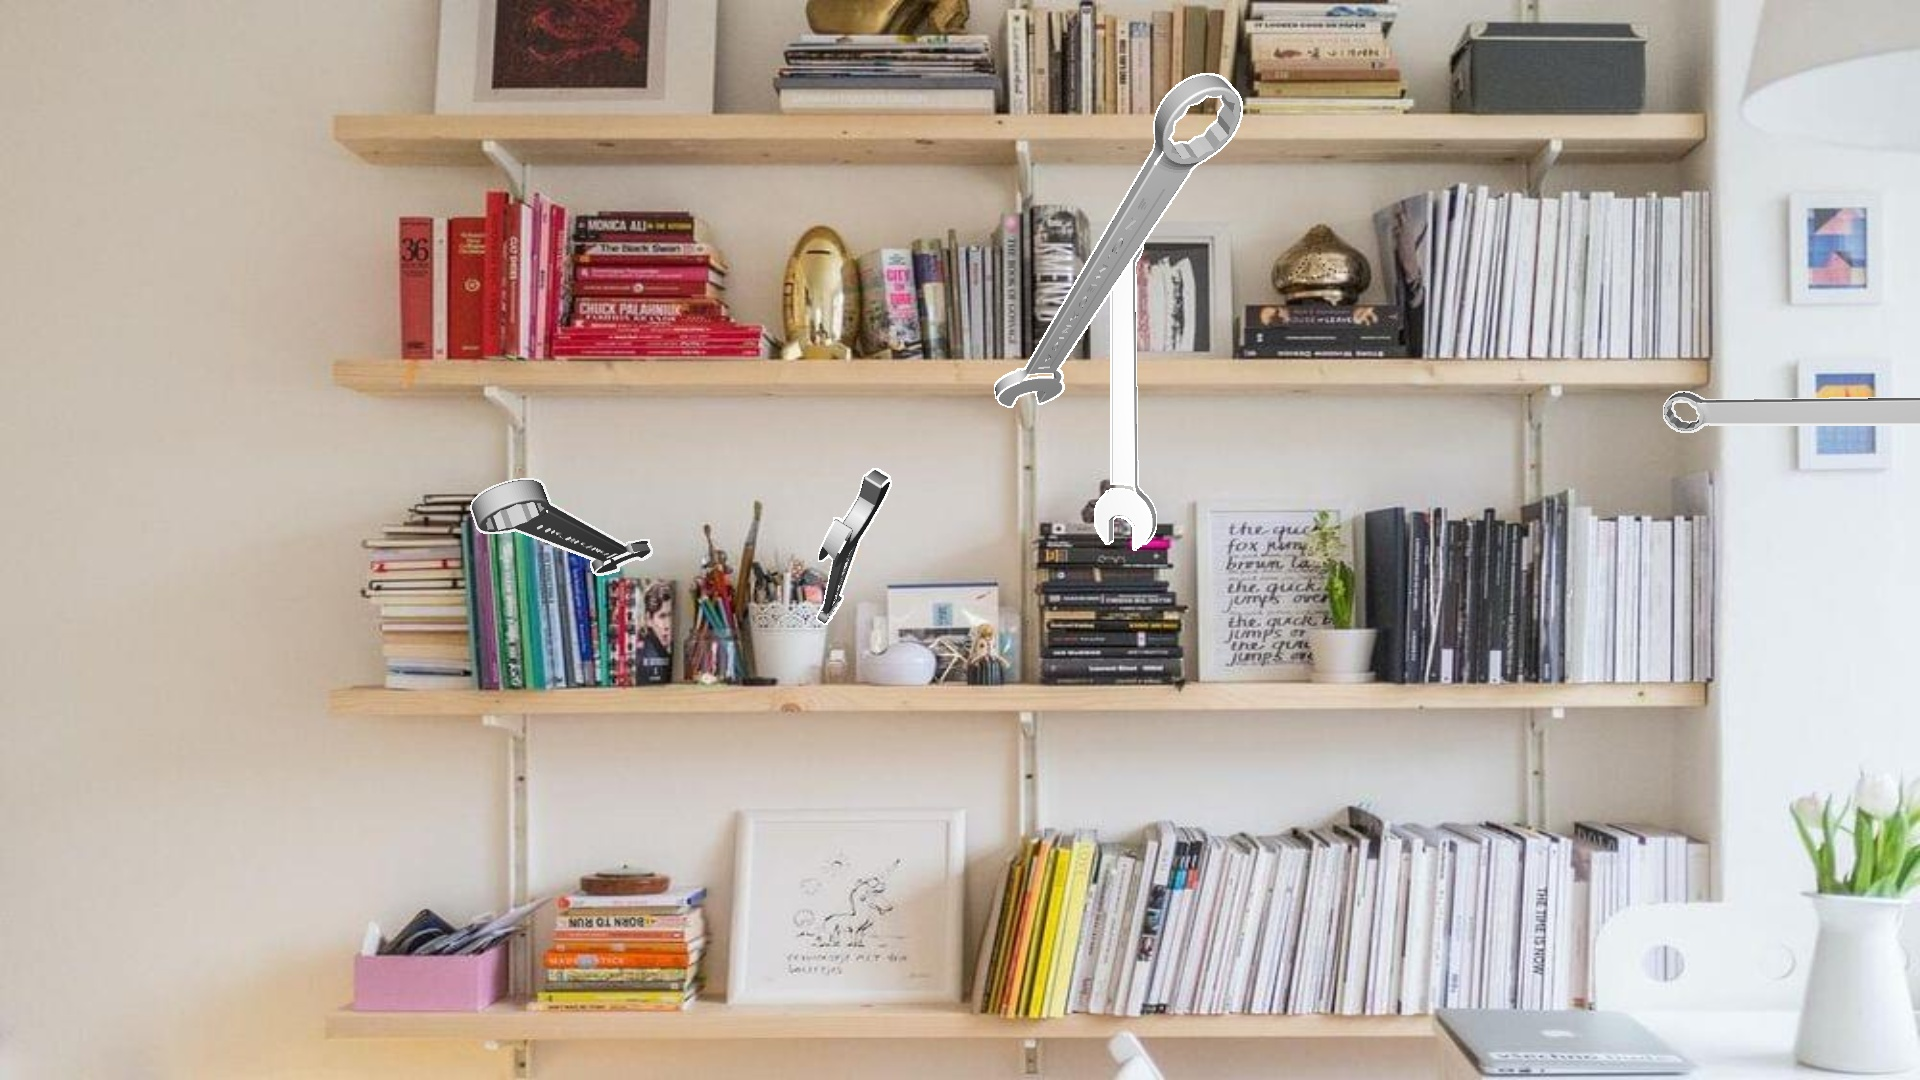Mixed Key: (994, 73, 1242, 407), (1095, 245, 1156, 550), (469, 477, 651, 575), (816, 468, 891, 624), (1663, 392, 1919, 433)
